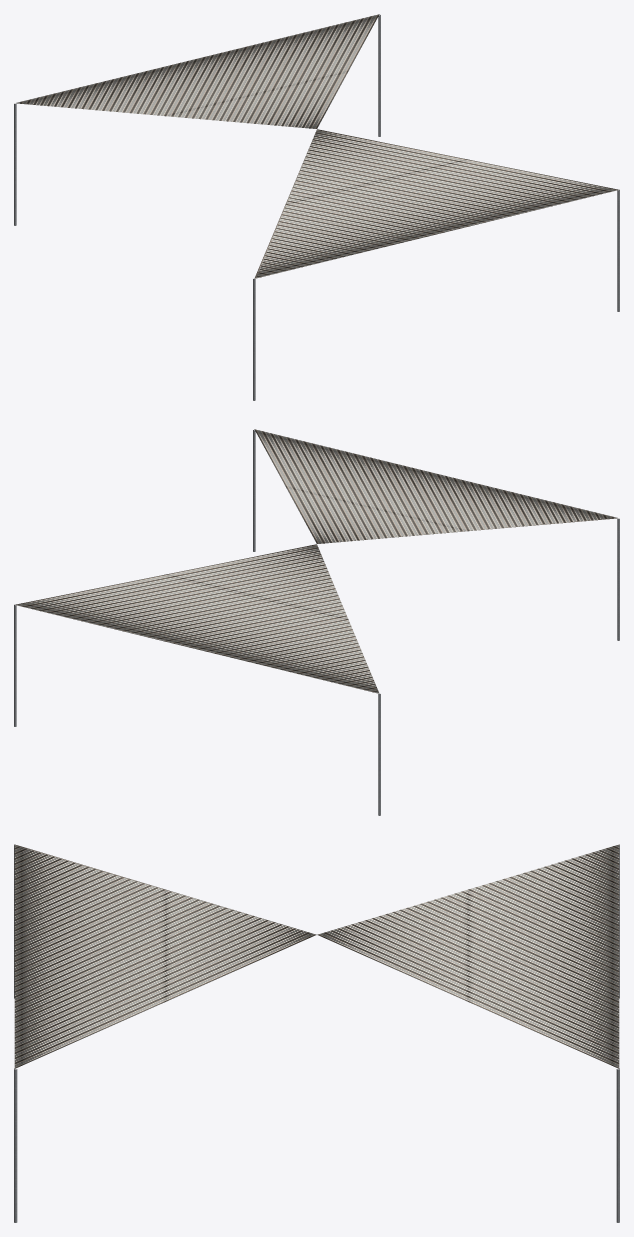
The model's file is KibuiShed_LOD1.gltf.
3 views of the same model, one above another, from view 1: azimuth 30°, elevation 25°; view 2: azimuth 150°, elevation 25°; view 3: azimuth 270°, elevation 25° (orthographic). The views are drawn at different scales.
Parts seen in each view (by area): view 1: node3, node4; view 2: node3, node4; view 3: node3, node4.
Boxes of the visible parts, x1,y1,x2,y2 form: node3: (15,14,619,278); node4: (14,15,619,400); node3: (14,429,618,693); node4: (14,430,619,815); node3: (14,844,619,1068); node4: (14,845,619,1222).
Bounding box in the file's own units: 22.04 × 8 × 25.04.
